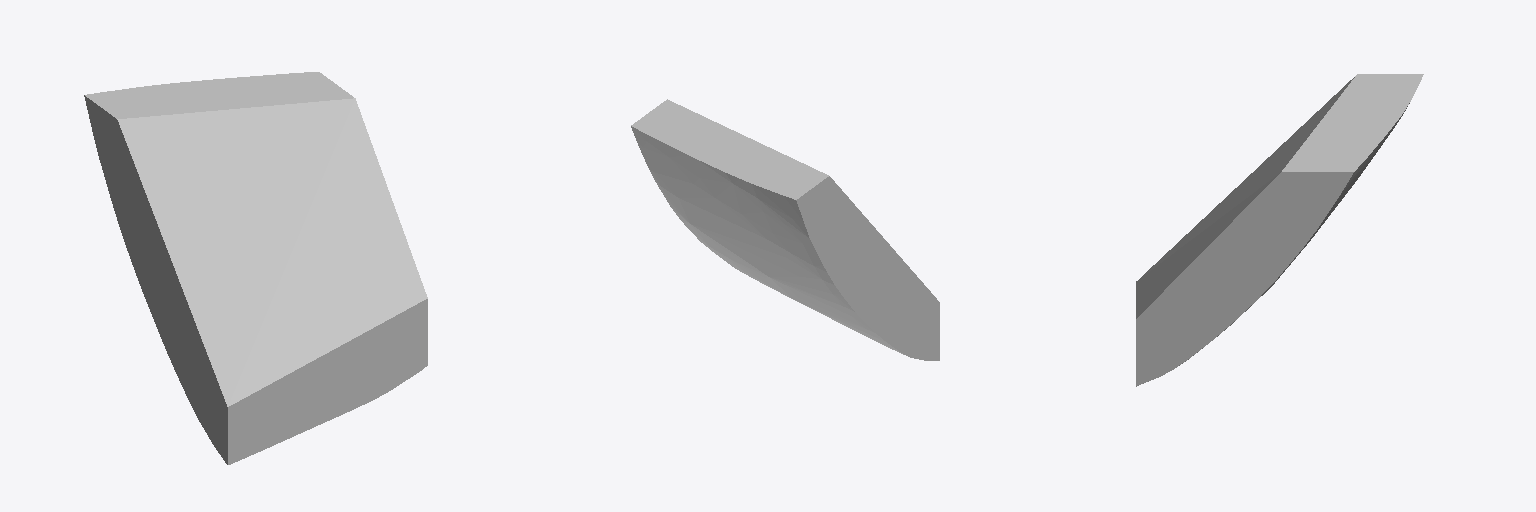
The model's file is phantom-elastrat_collision_206.obj.
3 renders of one model, left to right at view 1: azimuth 30°, elevation 25°; view 2: azimuth 150°, elevation 25°; view 3: azimuth 270°, elevation 25°, orthographic.
Bounding box in the file's own units: 0.0064 × 0.0081 × 0.0079.